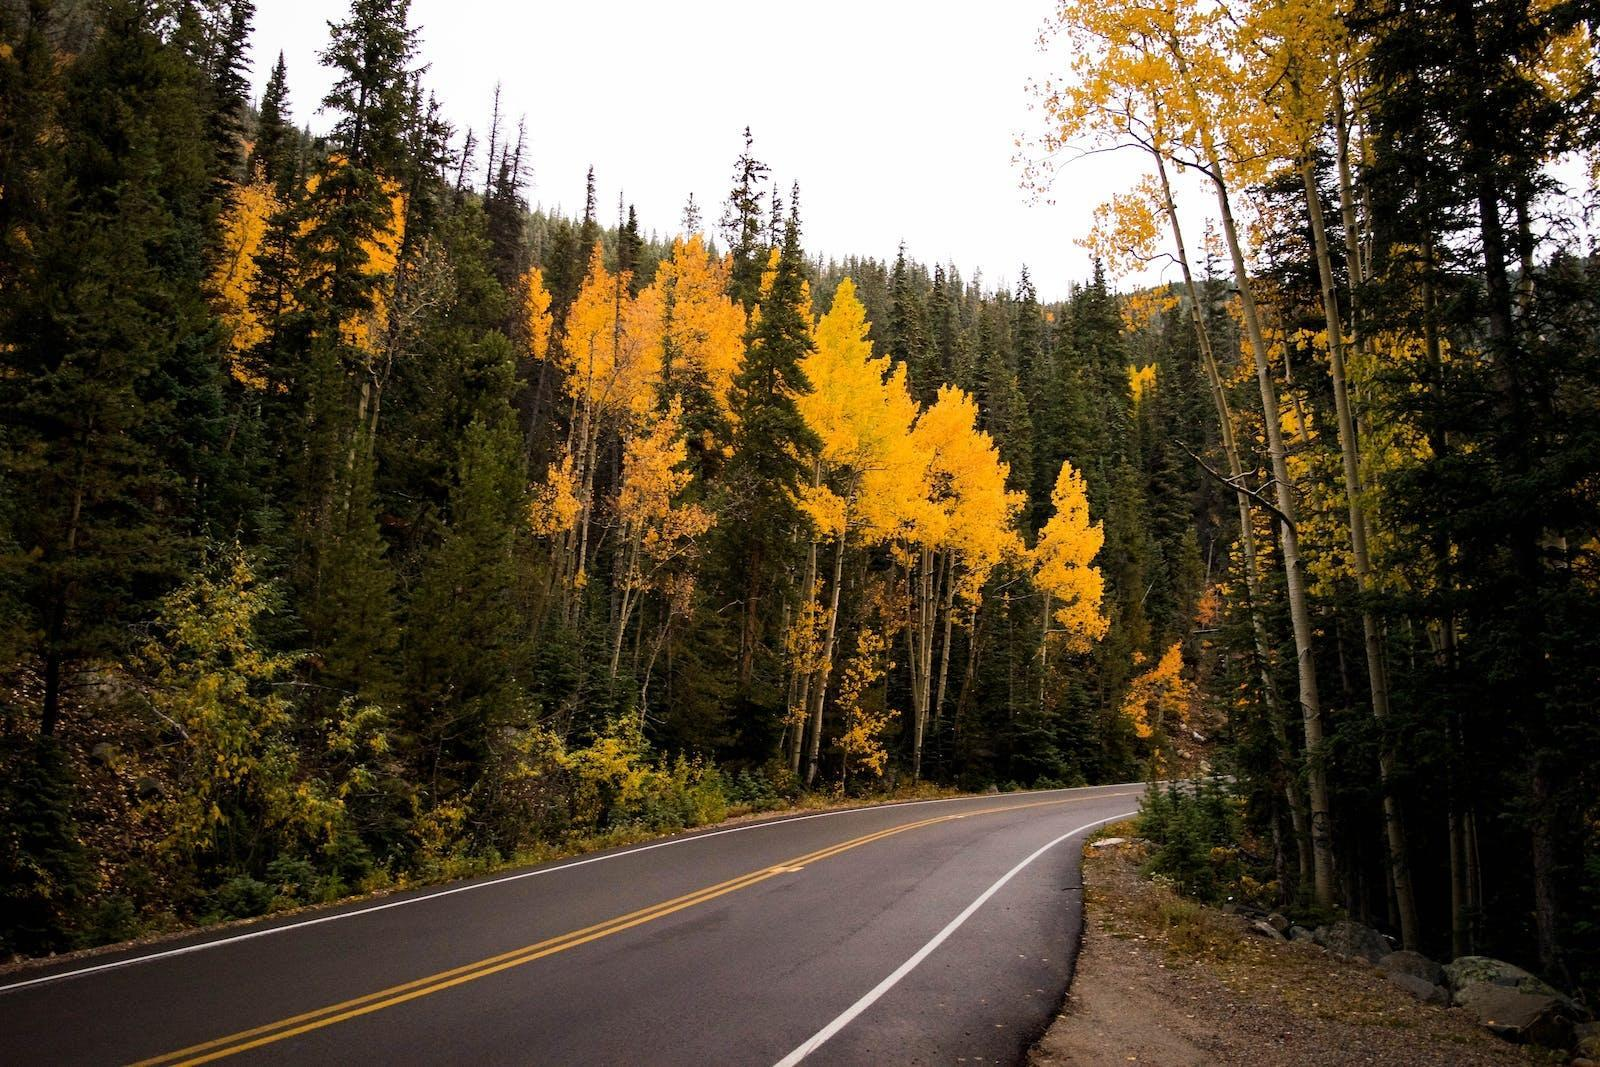road: (0, 785, 1138, 1065)
